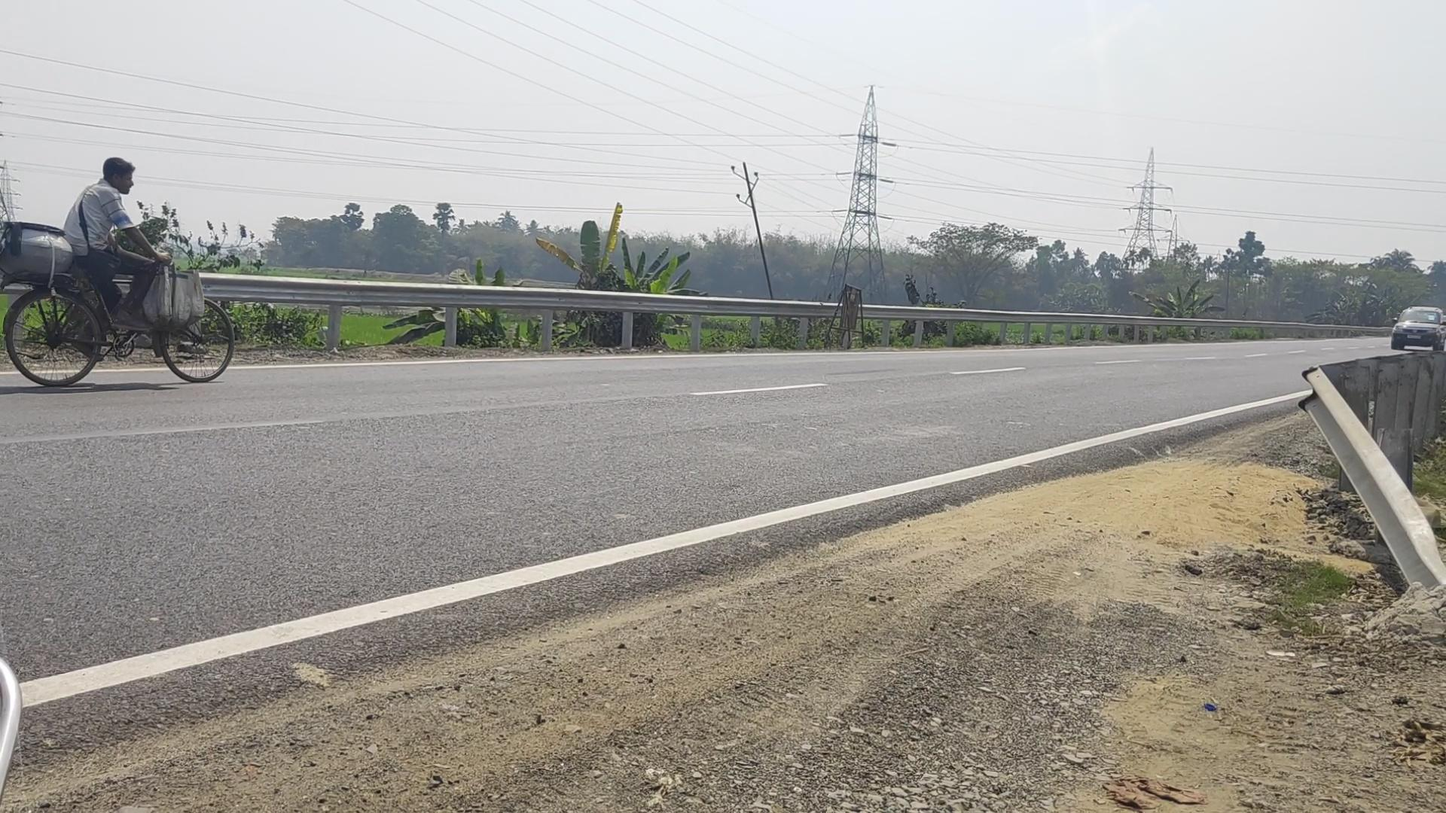bike: (2, 158, 234, 386)
car: (1391, 306, 1446, 352)
